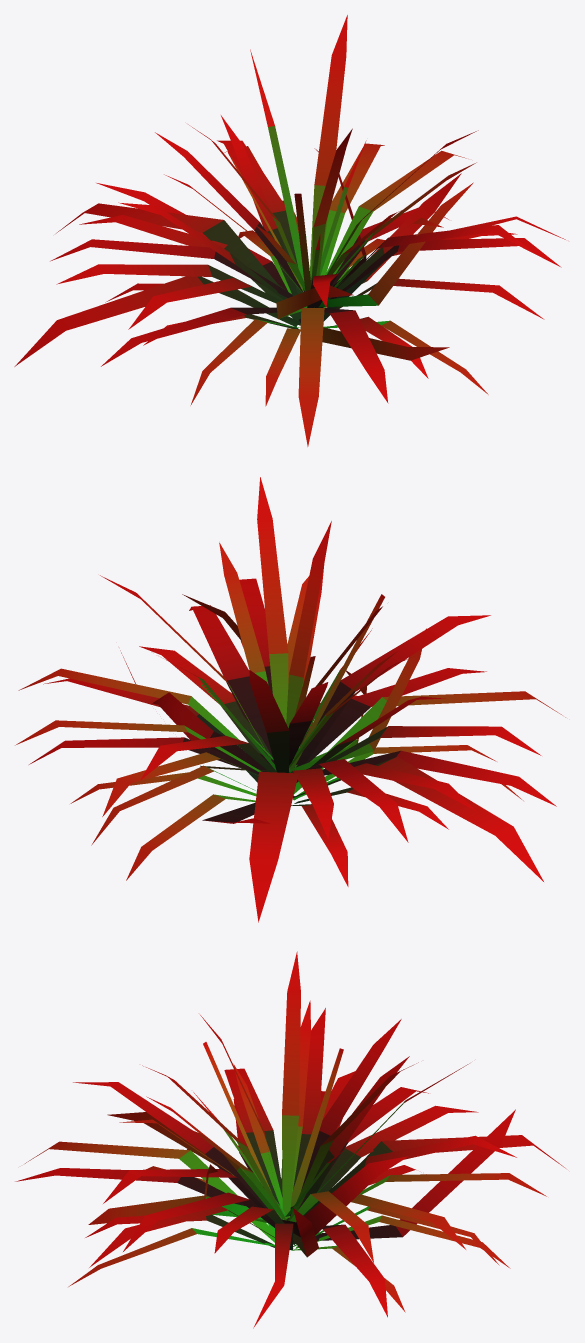
File: Ribbon Plant_LOD4_Var1_rhDrj.fbx
3 views of the same model, one above another, from view 1: azimuth 30°, elevation 25°; view 2: azimuth 150°, elevation 25°; view 3: azimuth 270°, elevation 25° (orthographic). The views are drawn at different scales.
Parts seen in each view (by area): view 1: _7bf6_Var1_LOD4; view 2: _7bf6_Var1_LOD4; view 3: _7bf6_Var1_LOD4.
Part boxes in pixels (left/top/right/bottom): _7bf6_Var1_LOD4: left=14, top=15, right=565, bottom=446; _7bf6_Var1_LOD4: left=15, top=477, right=565, bottom=922; _7bf6_Var1_LOD4: left=15, top=951, right=565, bottom=1328.
Bounding box in the file's own units: 61.43 × 27.73 × 56.99.
